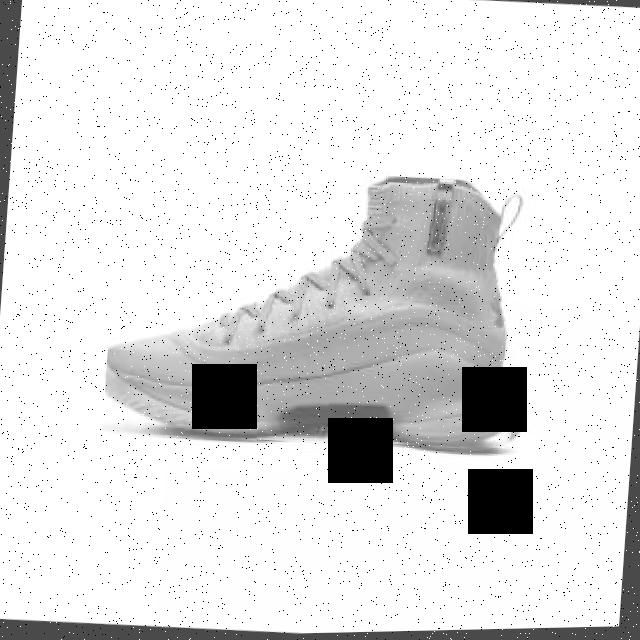shoe: (101, 156, 542, 465)
